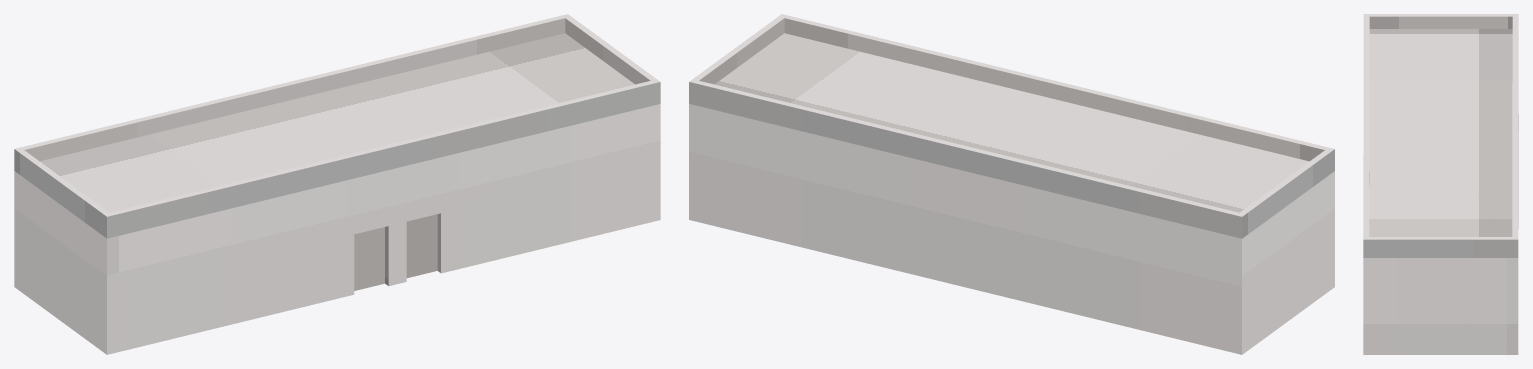
The model's file is Utility_structure_2.glb.
3 renders of one model, left to right at view 1: azimuth 30°, elevation 25°; view 2: azimuth 150°, elevation 25°; view 3: azimuth 270°, elevation 25°, orthographic. The views are drawn at different scales.
Visible parts, largest first — view 1: Utility_structure_2_baked; view 2: Utility_structure_2_baked; view 3: Utility_structure_2_baked.
Boxes of the visible parts, x1,y1,x2,y2 form: Utility_structure_2_baked: (14, 14, 660, 354); Utility_structure_2_baked: (689, 14, 1334, 354); Utility_structure_2_baked: (1363, 14, 1518, 354).
Size of the model in its own units: 19.23 by 4.59 by 5.59.
1 material, 1 textured.
